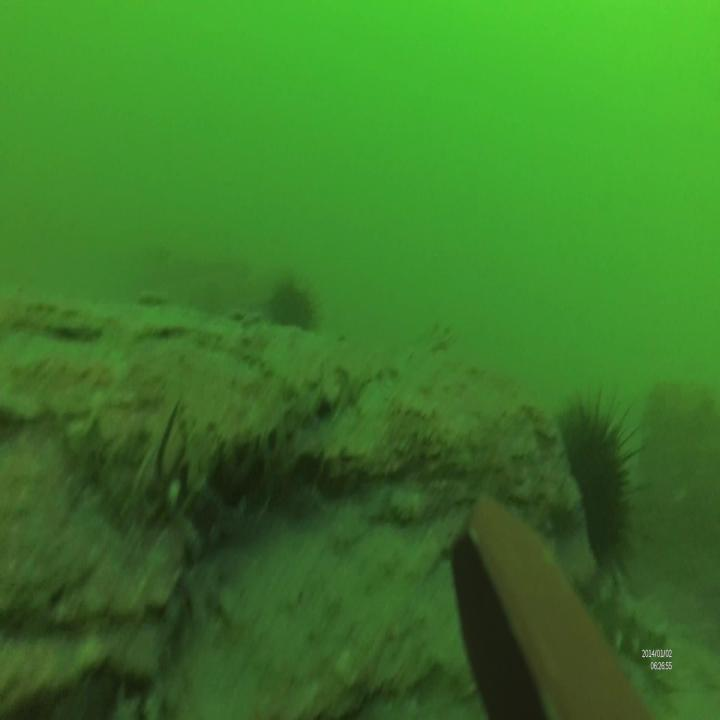echinus: (550, 388, 642, 580), (266, 278, 318, 339)
holothurian: (594, 571, 668, 664)
